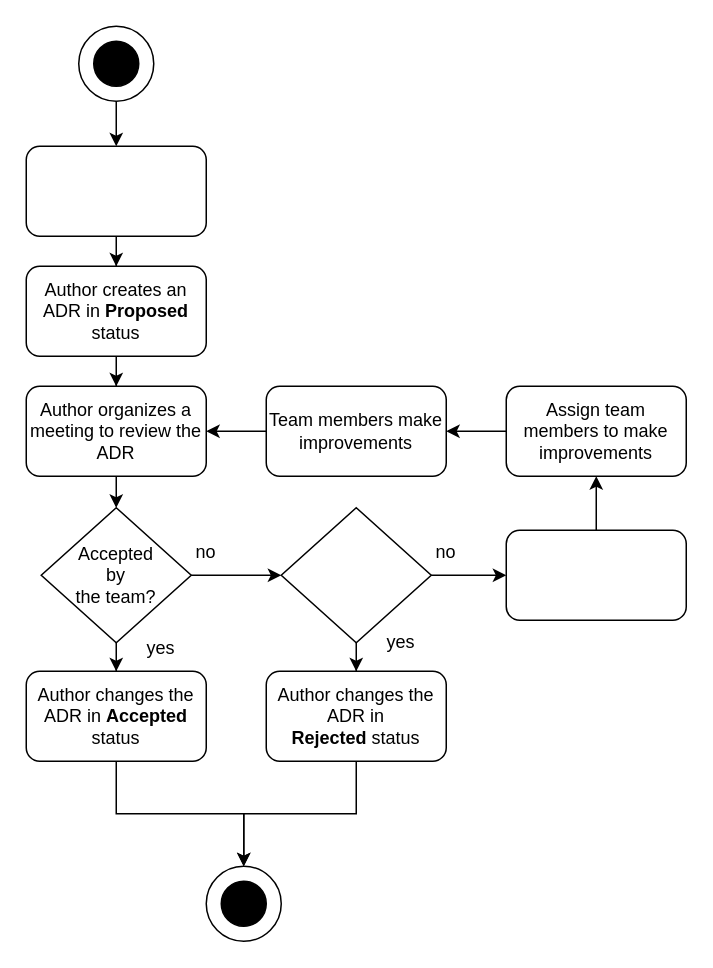
Some shapes in this 713 by 968 pixel diagram are drawn without their labels. The box of each missing label's shape, as (x1, y1, x2, y2) in pixels:
Author identifies a need: (25, 145, 206, 236)
Rejected by the team?: (280, 506, 431, 643)
The team identifies points for improvement: (505, 529, 686, 620)
